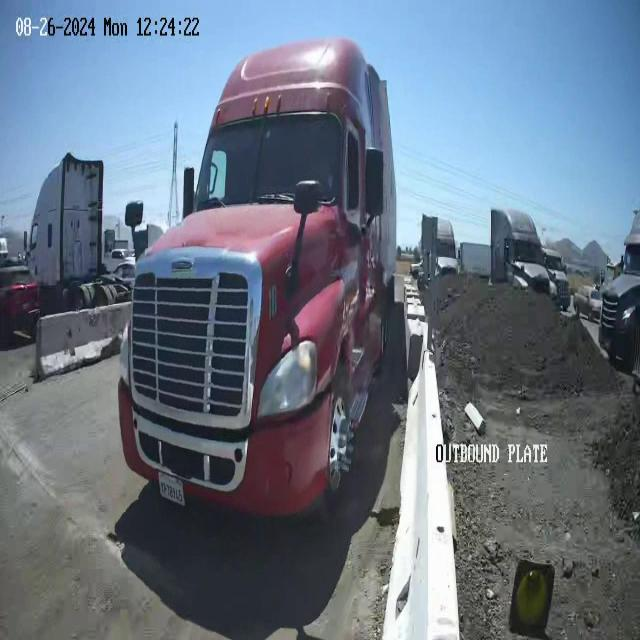TRUCK_OUT: (117, 36, 399, 520)
